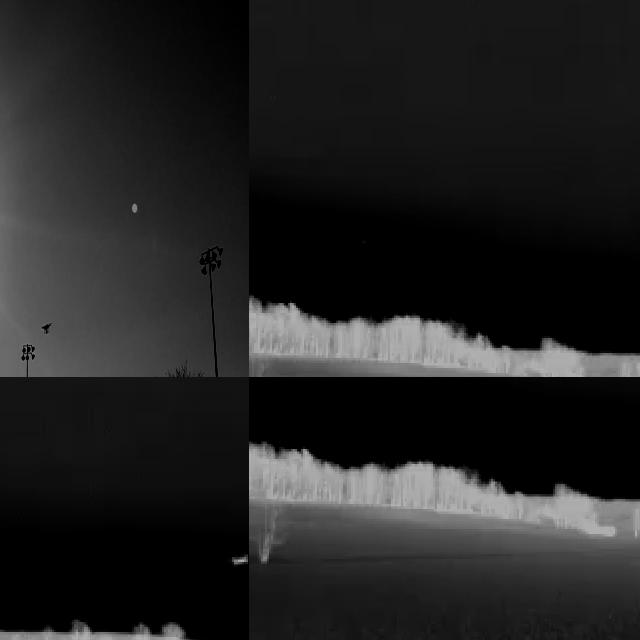0: (348, 228, 382, 263), (414, 377, 444, 409)
1: (219, 544, 249, 581)
drone: (39, 313, 55, 338)
